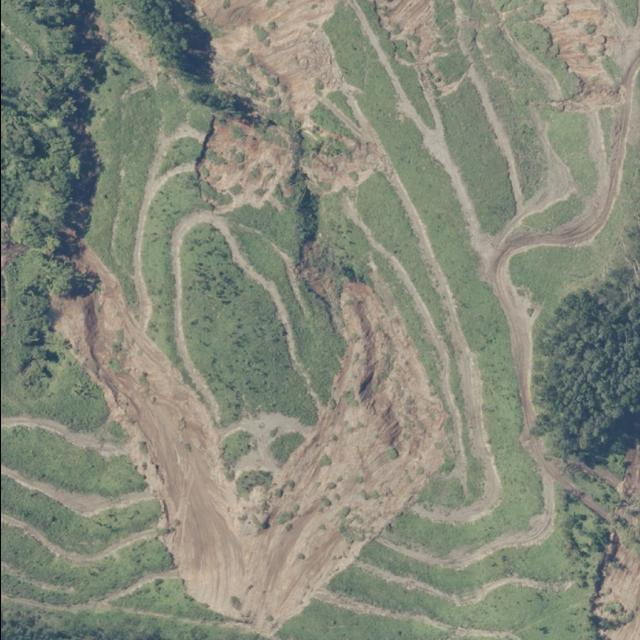landslide: (54, 247, 444, 633), (434, 63, 590, 463), (193, 0, 339, 119), (531, 0, 625, 112), (195, 118, 294, 212), (195, 118, 293, 212), (374, 0, 464, 95), (298, 124, 384, 194)
